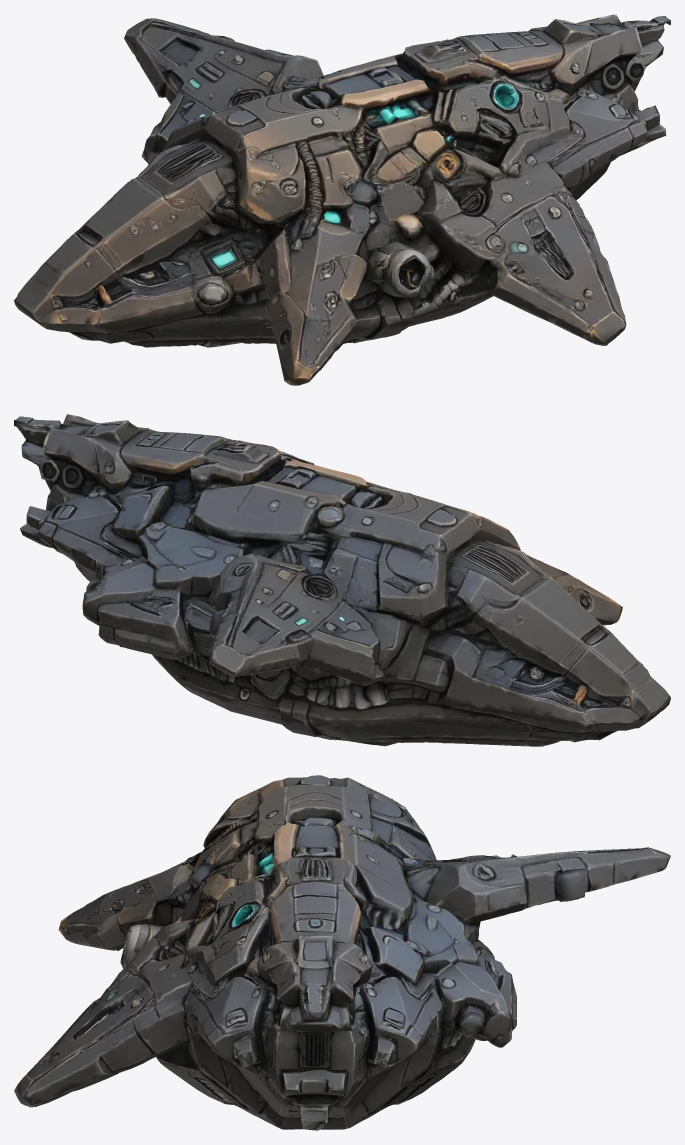
The model's file is enemy_raider.glb.
The picture shows the model from 3 angles, top to bottom: view 1: azimuth 30°, elevation 25°; view 2: azimuth 150°, elevation 25°; view 3: azimuth 270°, elevation 25°; orthographic projection. The views are drawn at different scales.
Visible parts, largest first — view 1: tripo_node_663bc22f-04cb-4d55-b94f-4628f940cc99; view 2: tripo_node_663bc22f-04cb-4d55-b94f-4628f940cc99; view 3: tripo_node_663bc22f-04cb-4d55-b94f-4628f940cc99.
Part boxes in pixels (bbox=[...]): tripo_node_663bc22f-04cb-4d55-b94f-4628f940cc99: bbox=[14, 14, 670, 385]; tripo_node_663bc22f-04cb-4d55-b94f-4628f940cc99: bbox=[14, 414, 670, 746]; tripo_node_663bc22f-04cb-4d55-b94f-4628f940cc99: bbox=[14, 775, 670, 1130].
Bounding box in the file's own units: 0.9999 × 0.3438 × 0.8091.
1 material, 1 textured.
